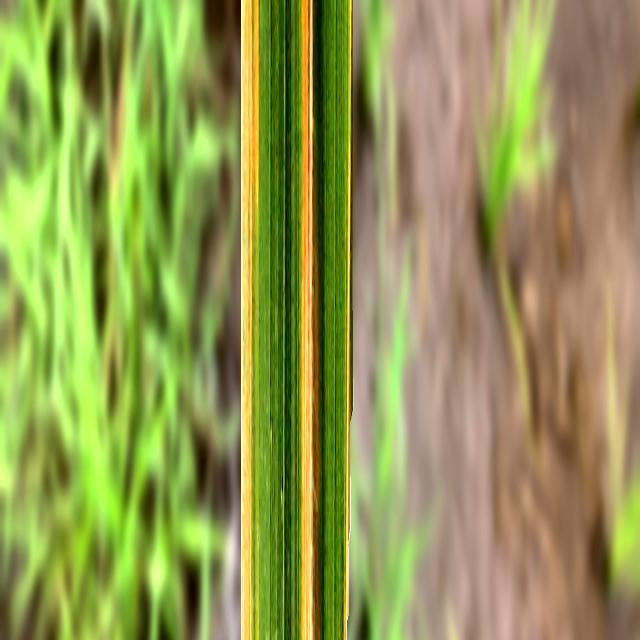BLS: (242, 0, 260, 640), (302, 0, 315, 640)
